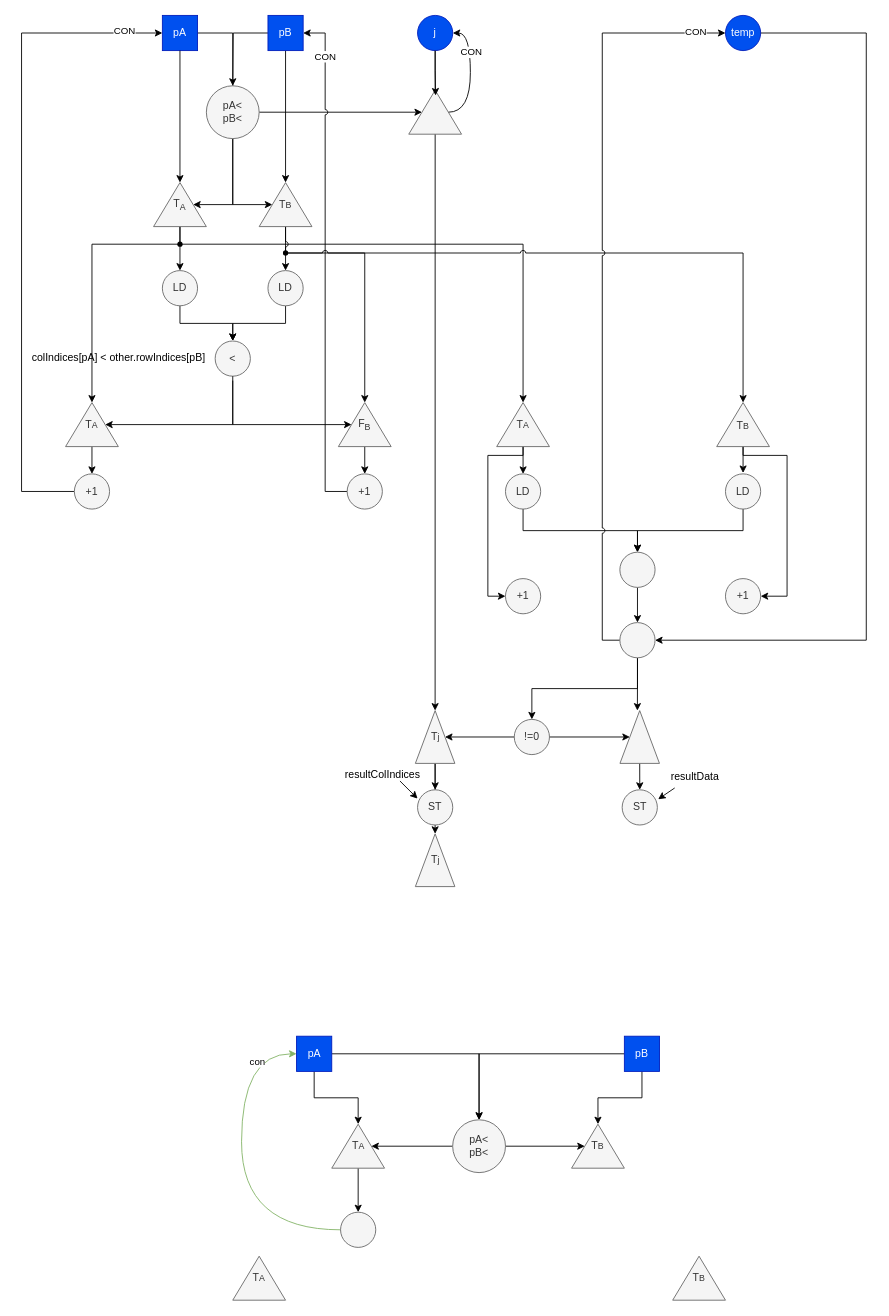
This 889x1316 diagram has some shape labels left out. The shapes that lost their labels are listed below. From the top down, each one's centre as x and y in pixels, then its label:
At point (435, 111): "Tj".
At point (637, 569): "MUL".
At point (637, 640): "ADD".
At point (639, 736): "T temp".
At point (358, 1229): "pA++".
